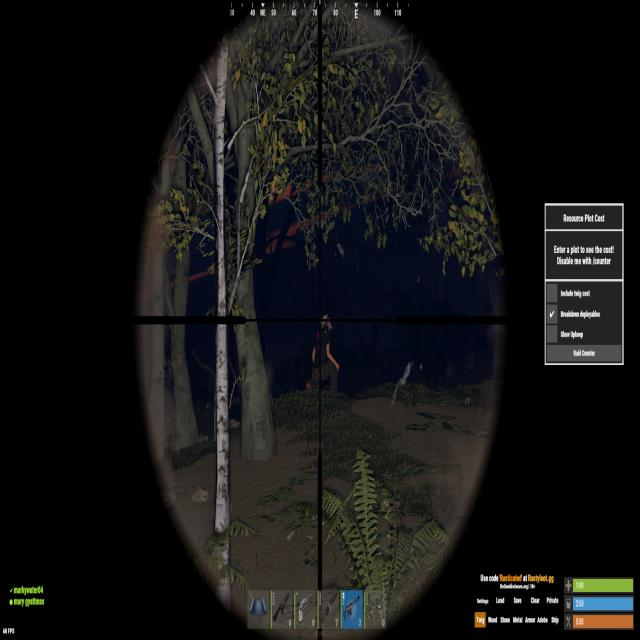Player: (306, 312, 340, 398)
